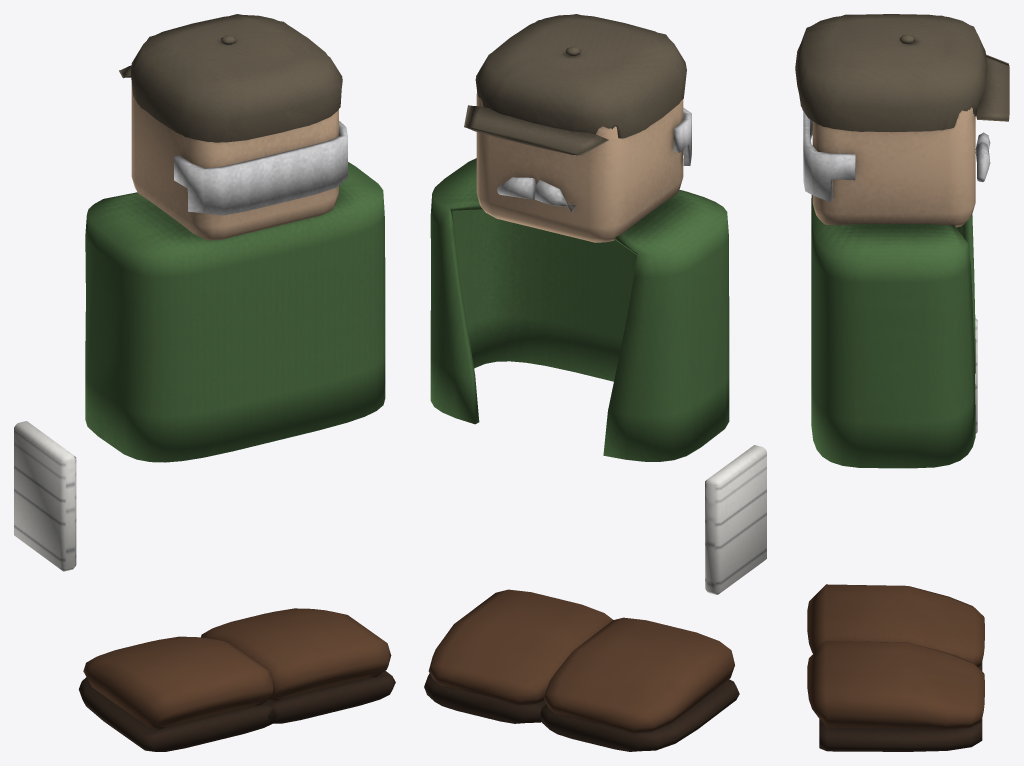
File: Bloque_Abu_Tomas.fbx
The picture shows the model from 3 angles, left to right: view 1: azimuth 30°, elevation 25°; view 2: azimuth 150°, elevation 25°; view 3: azimuth 270°, elevation 25°; orthographic projection.
Parts seen in each view (by area): view 1: Chaleco, ZapatoL, Gorra, ZapatoR, CabezaBloque, Pelo, GorraLOD, Periodico; view 2: Chaleco, ZapatoL, CabezaBloque, ZapatoR, Gorra, GorraLOD, Periodico, Bigote, Pelo; view 3: Chaleco, ZapatoR, Gorra, CabezaBloque, ZapatoL, GorraLOD, Pelo, Bigote.
Part boxes in pixels (x1,y1,x2,y2): Chaleco: (85, 162, 385, 462); ZapatoL: (78, 636, 276, 751); Gorra: (121, 15, 342, 142); ZapatoR: (201, 608, 395, 723); CabezaBloque: (131, 83, 338, 240); Pelo: (174, 121, 347, 215); GorraLOD: (119, 14, 342, 142); Periodico: (14, 421, 76, 571); Chaleco: (430, 158, 729, 461); ZapatoL: (540, 617, 739, 751); CabezaBloque: (476, 92, 683, 242); ZapatoR: (424, 589, 613, 723); Gorra: (465, 14, 686, 155); GorraLOD: (464, 14, 686, 155); Periodico: (705, 445, 766, 594); Bigote: (497, 177, 575, 211); Pelo: (673, 107, 691, 165); Chaleco: (811, 195, 975, 468); ZapatoR: (807, 641, 984, 751); Gorra: (795, 14, 1009, 132); CabezaBloque: (812, 107, 975, 227); ZapatoL: (807, 584, 984, 670); GorraLOD: (799, 14, 1008, 131); Pelo: (803, 111, 855, 201); Bigote: (975, 132, 990, 182).
Bounding box in the file's own units: 269 × 545 × 161.
